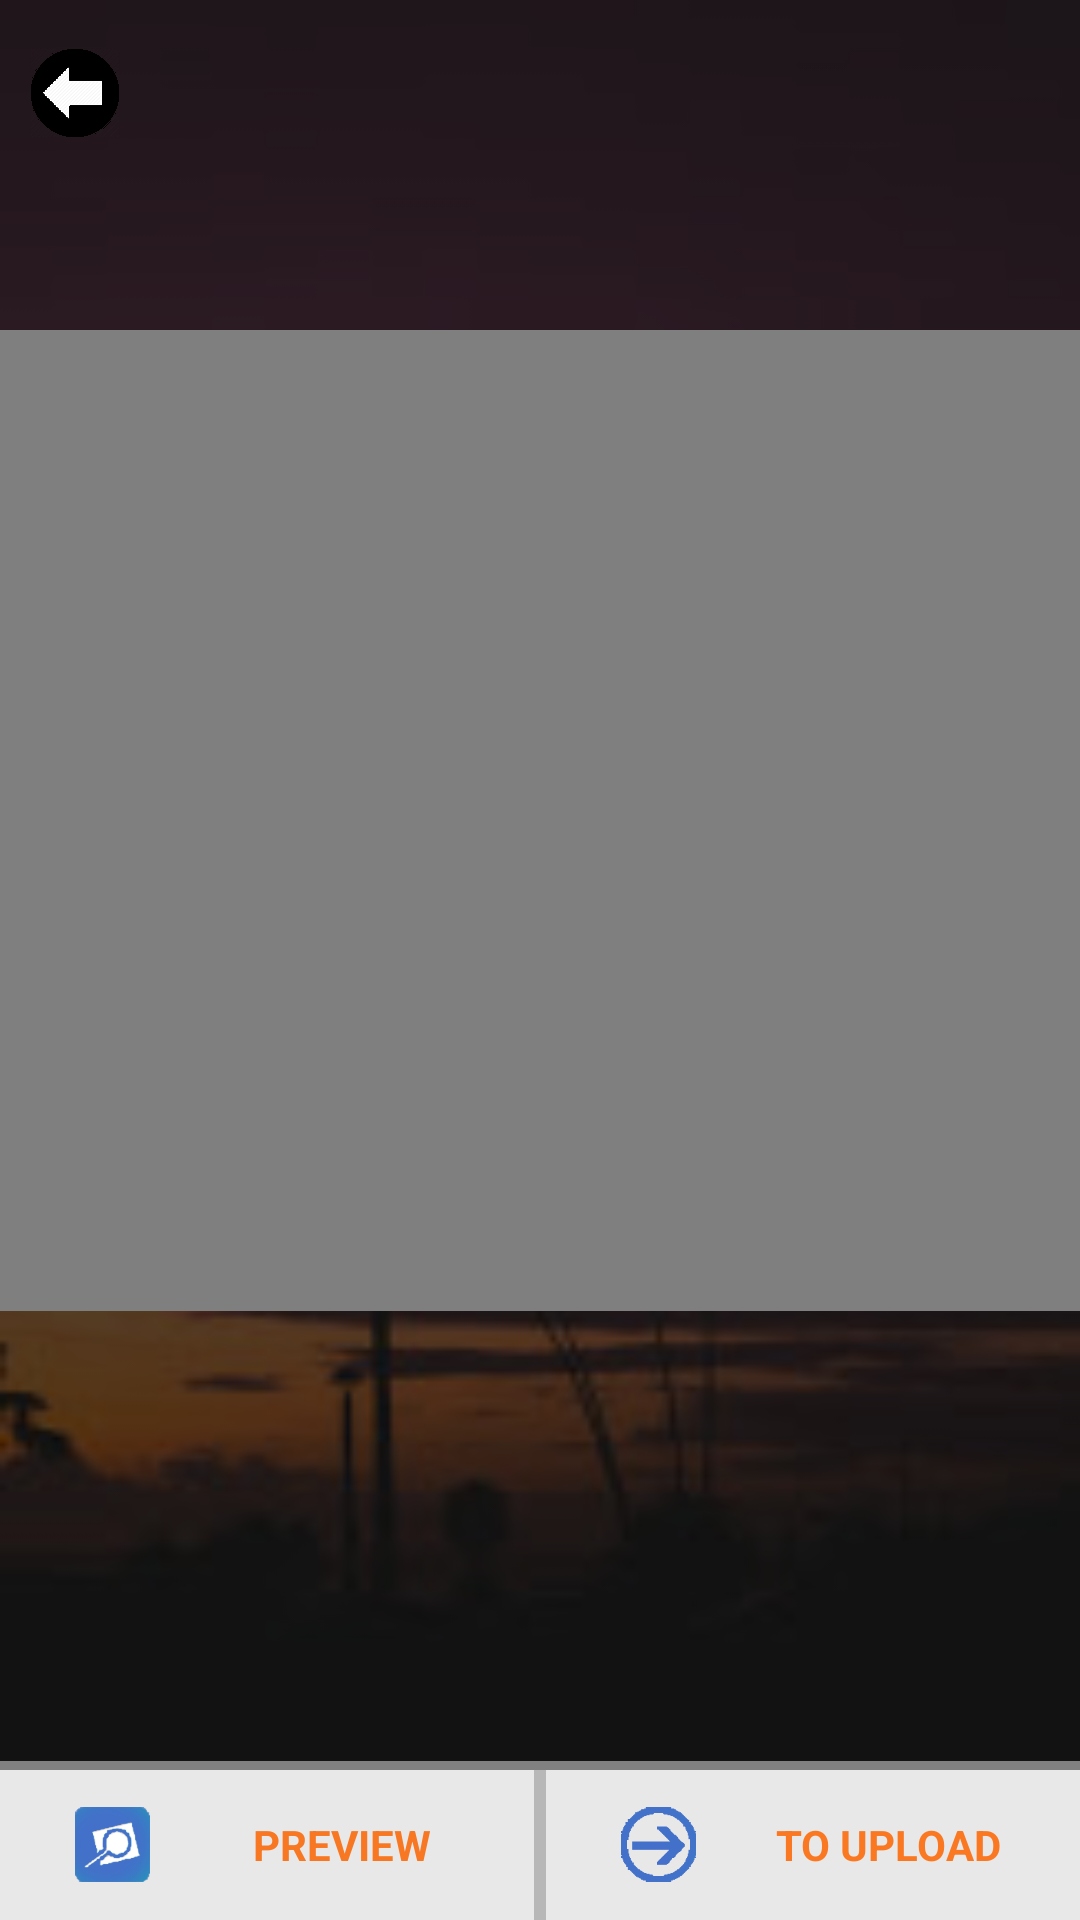

Where to tap for icons on this 1080x1920 app screen, as (x=x, y=y):
back: (x=75, y=93)
